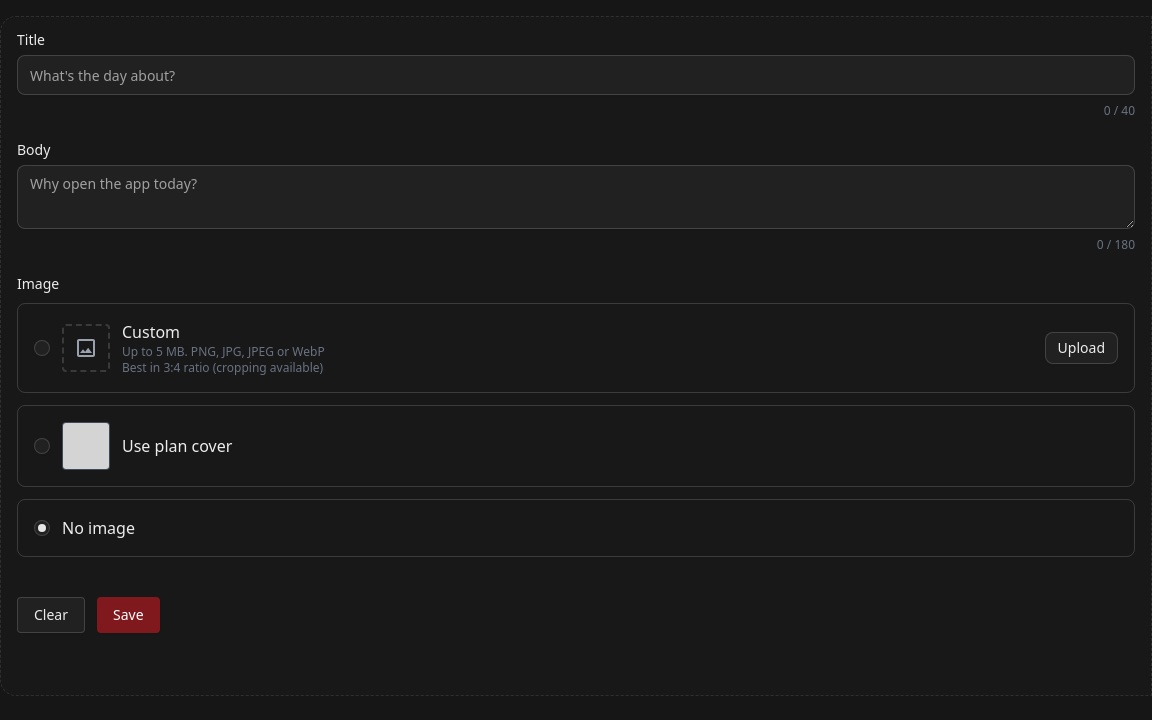
Test case: NotificationForm Component › Form Interaction Tests › updates title field and character counter
The width and height of the screenshot is (1152, 720).
Step 1. Type "New Title" into the field labelled "Title" → (576, 75), box [17, 55, 1135, 95]
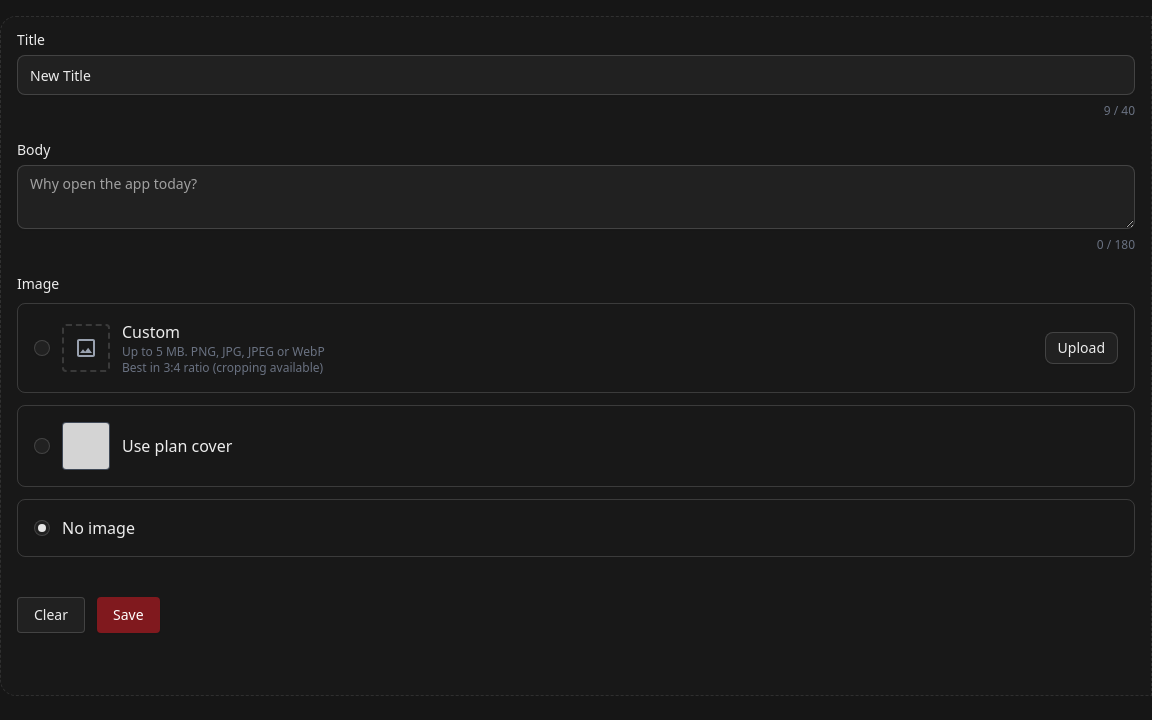
Expected: the text "9 / 40" is shown, [1104, 102, 1135, 119]
